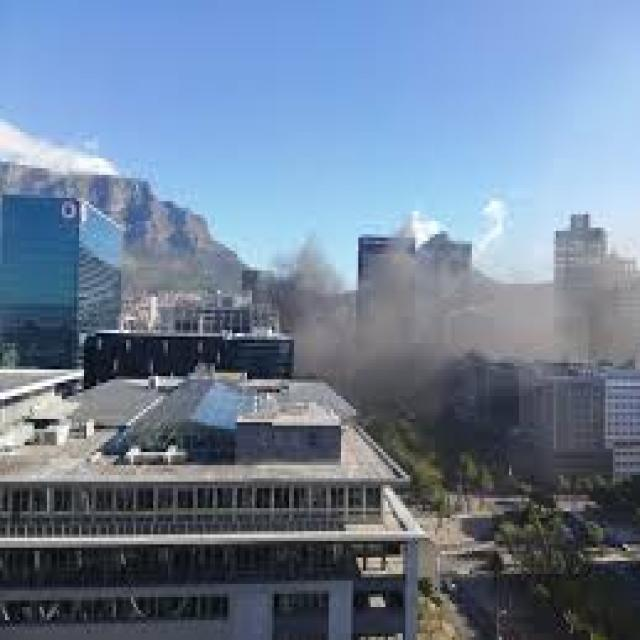Smoke: (284, 220, 640, 424)
